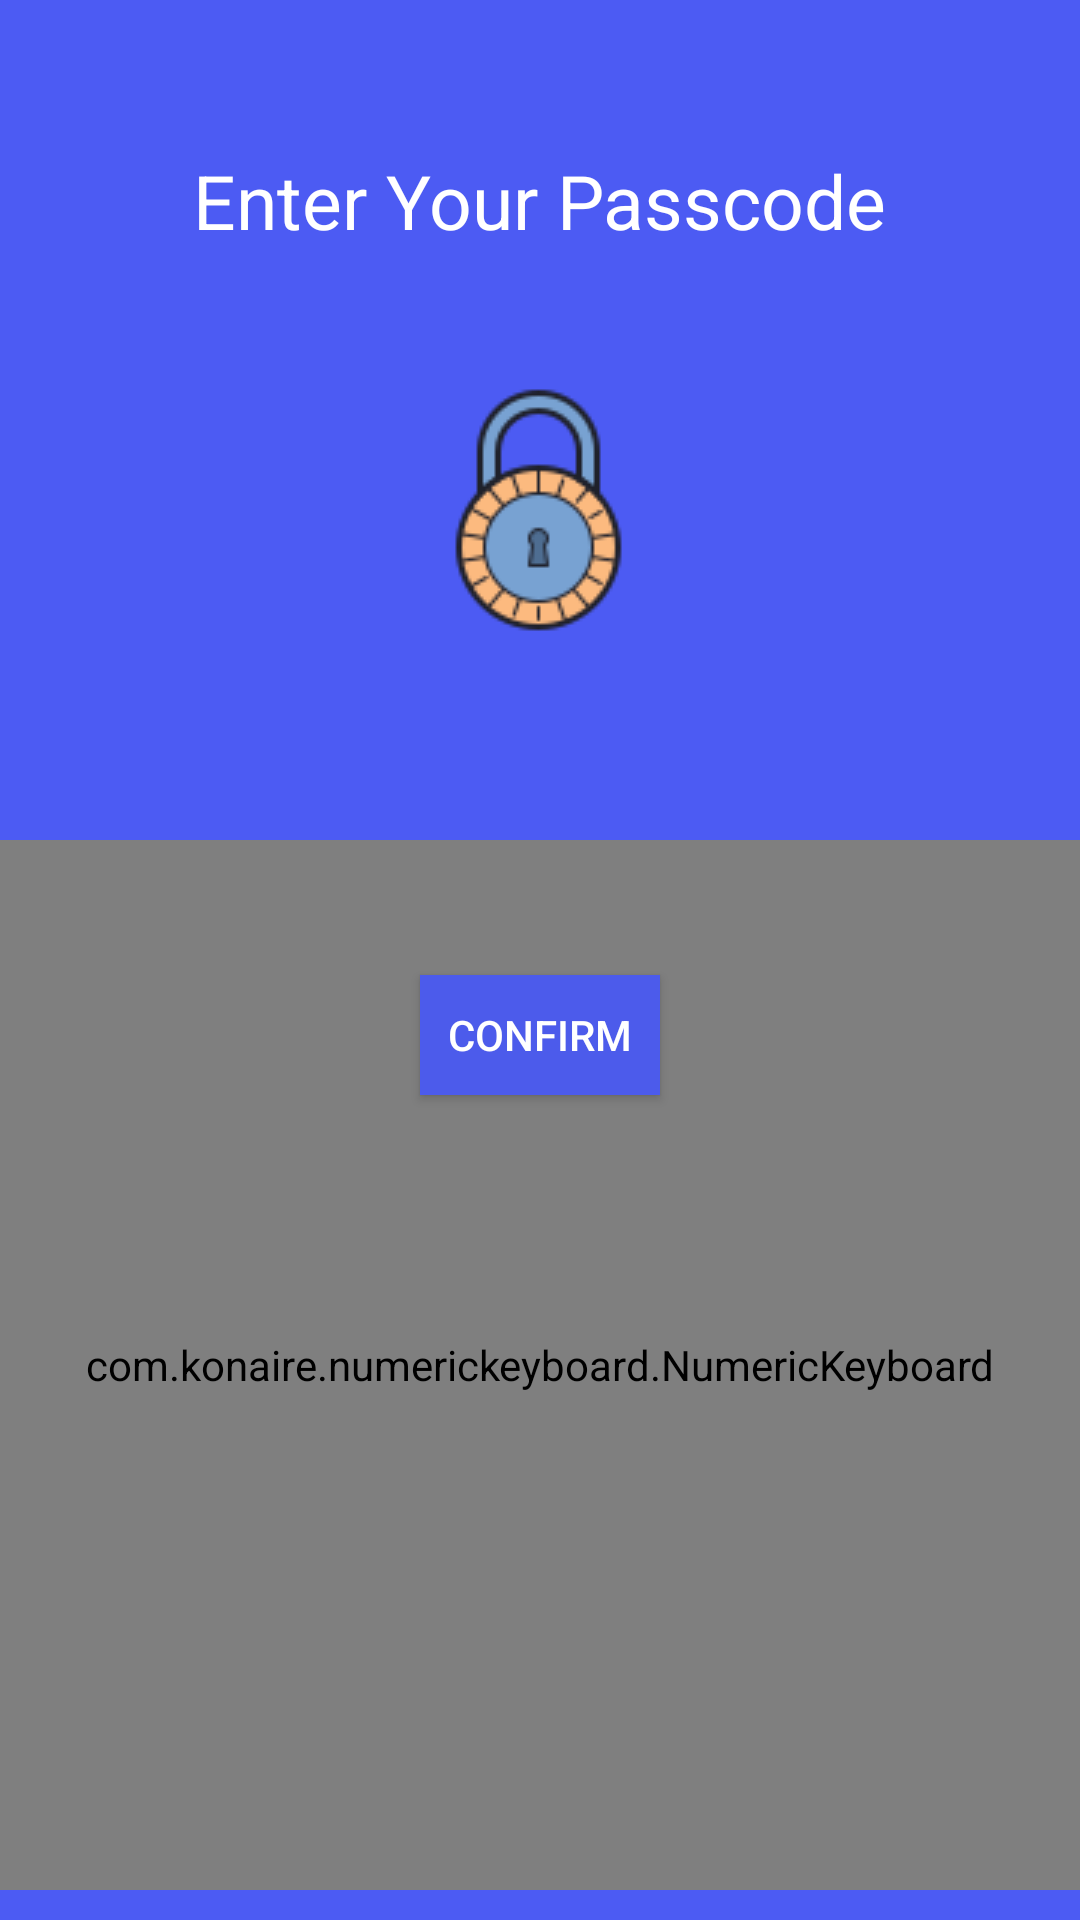

Screen size 1080px x 1920px. Icon name, then its box in pixels as (x1, y1, x2, y2):
iconslock: (455, 389, 622, 631)
